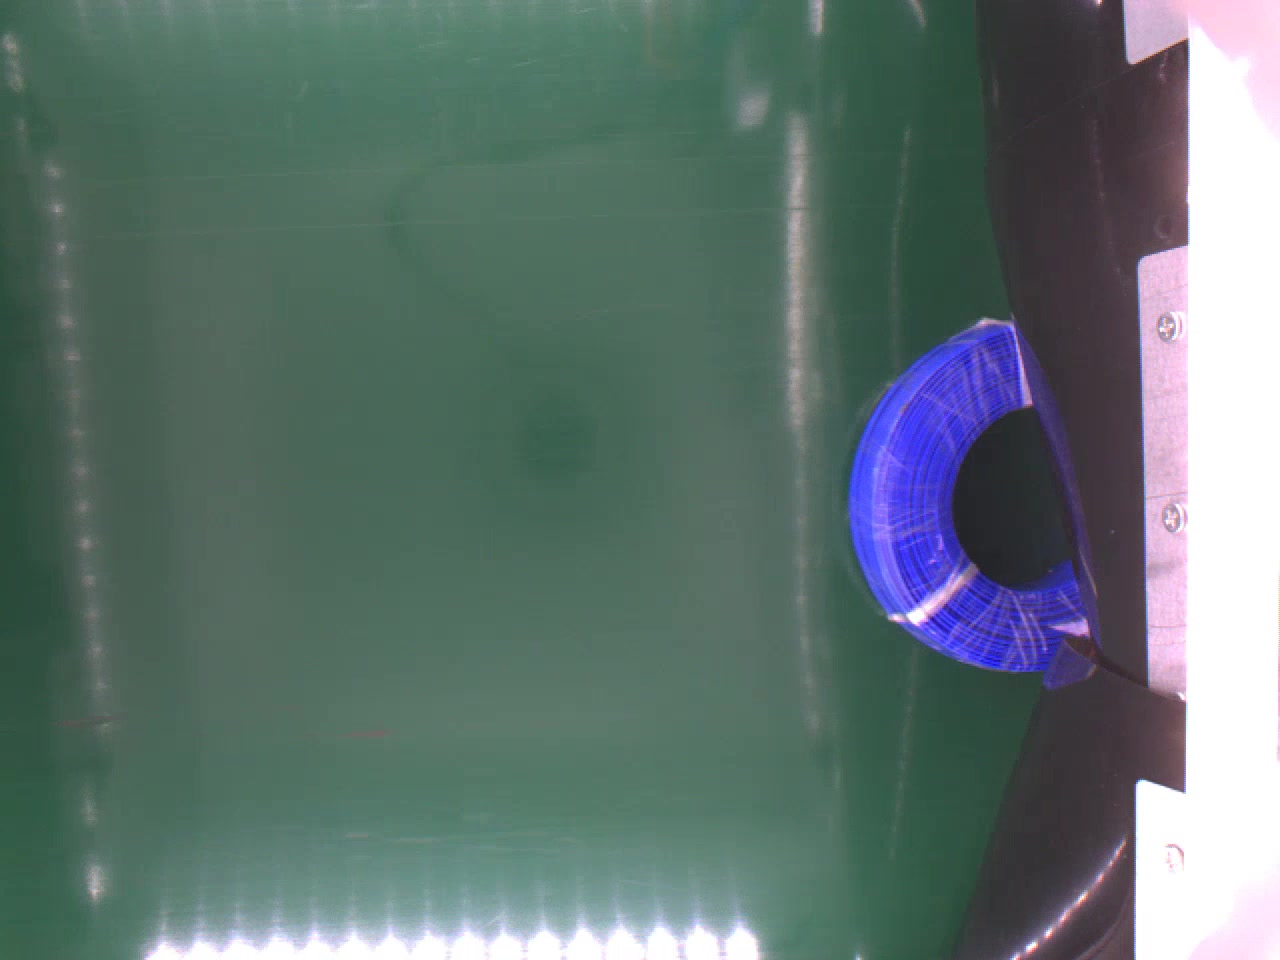blue: (845, 318, 1094, 677)
